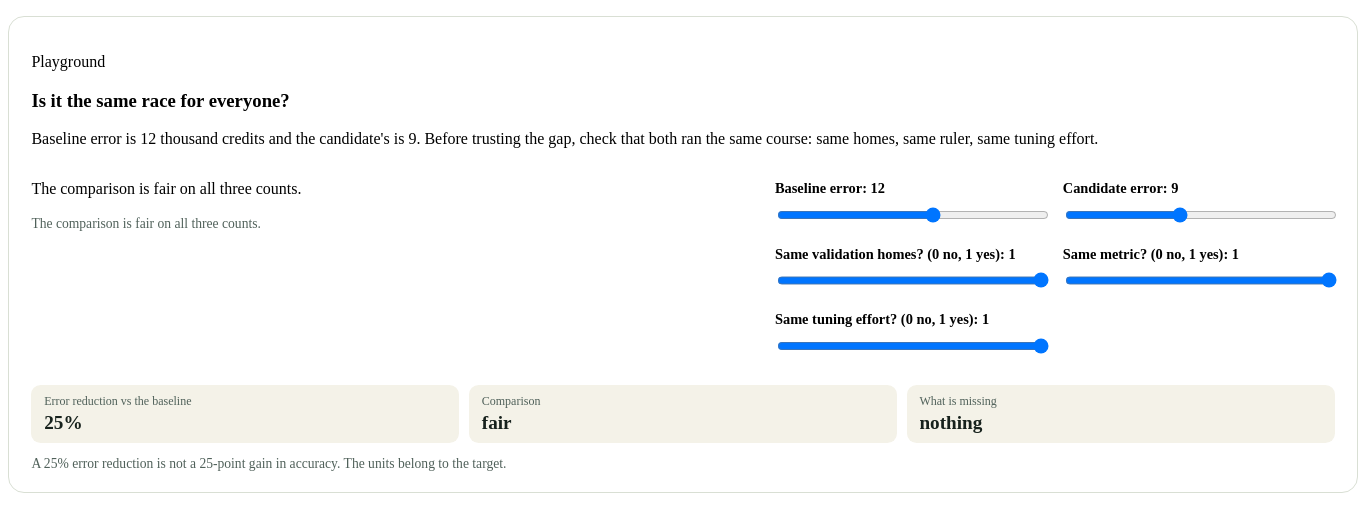
the playgrounds › fair: using different homes makes it unfair and says what is missing
Set the slider labelled "Same validation homes? (0 no, 1 yes): 1" to "0" at (785, 280), box [777,268,1049,293]
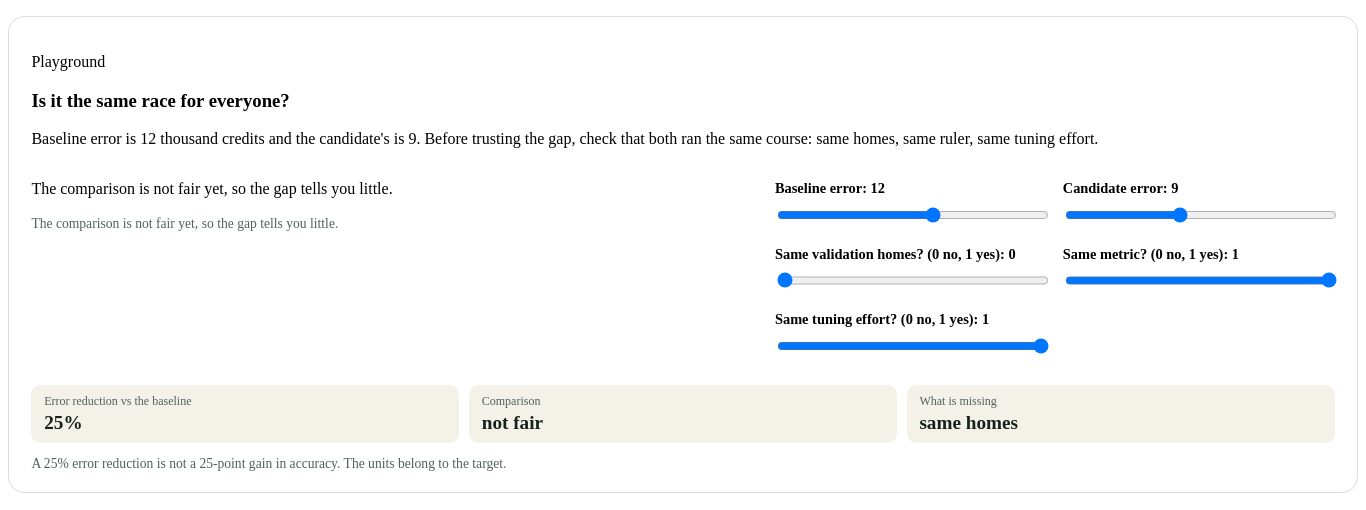
Expected: the text "not fair" is shown, [482,412,543,433]
Expected: the text "same homes" is shown, [919,412,1018,433]
